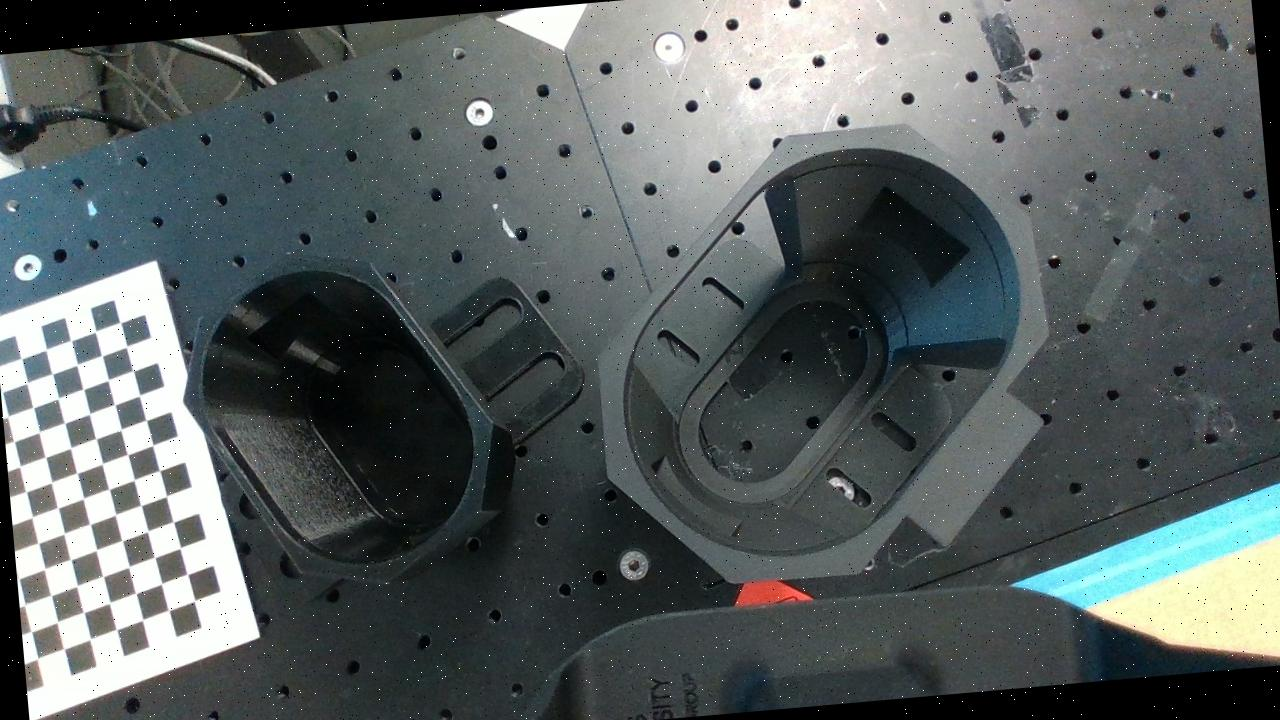big_interface: (580, 113, 1070, 596)
small_interface: (170, 236, 508, 602)
